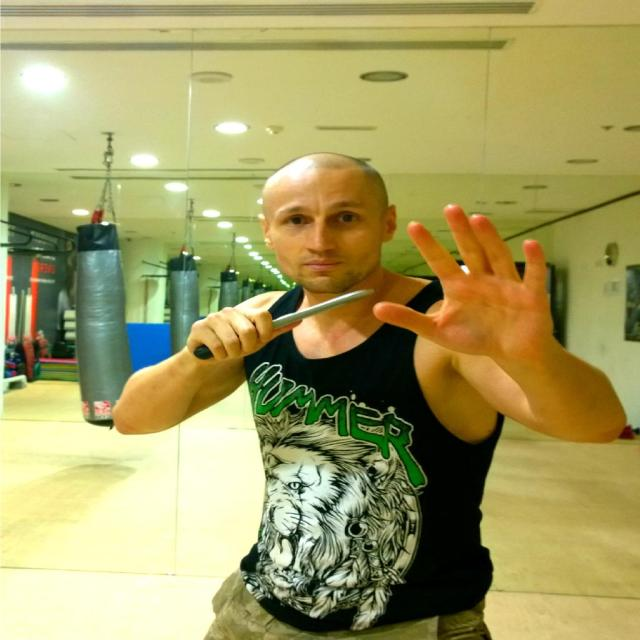Face: (261, 160, 417, 292)
